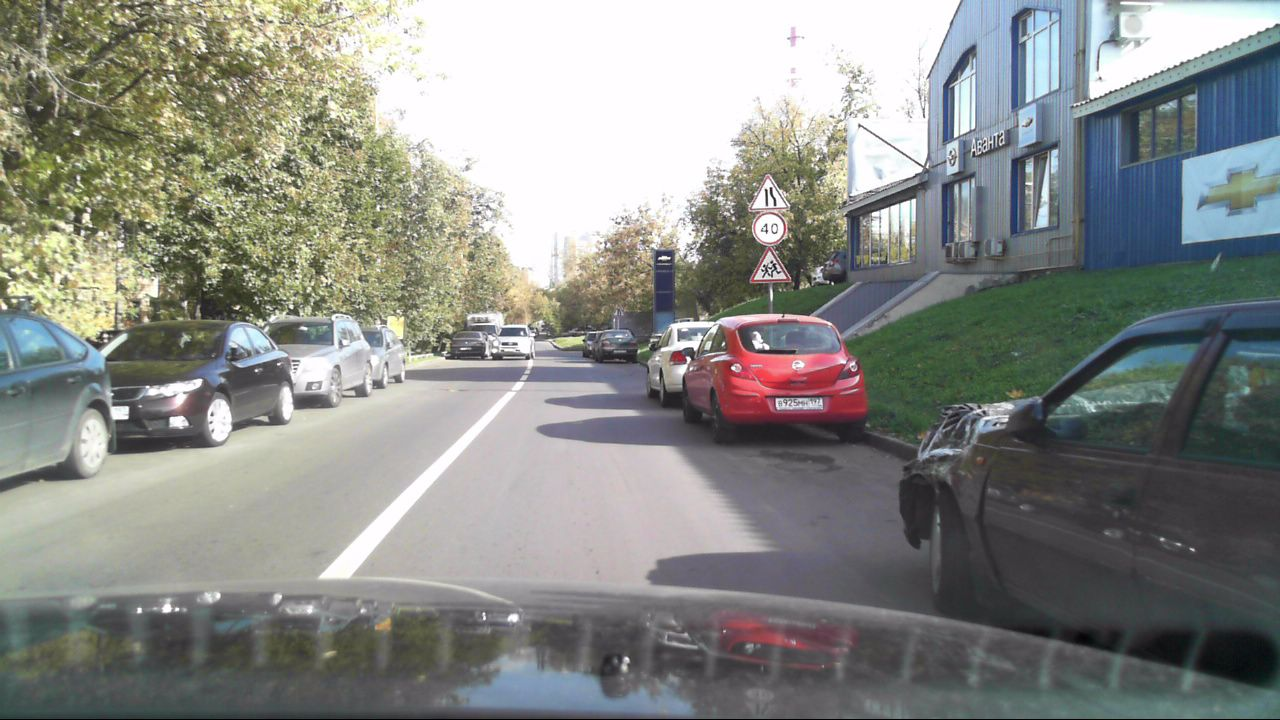speed_warning_40: (751, 208, 789, 248)
